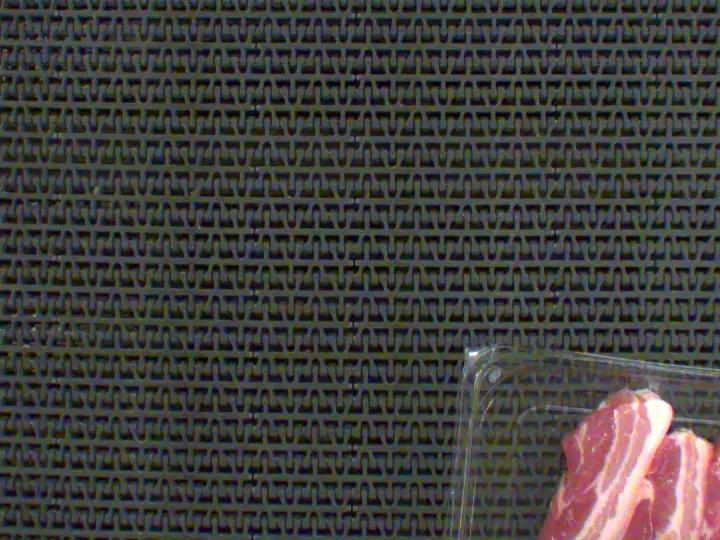packaging-error: (628, 369, 666, 397)
